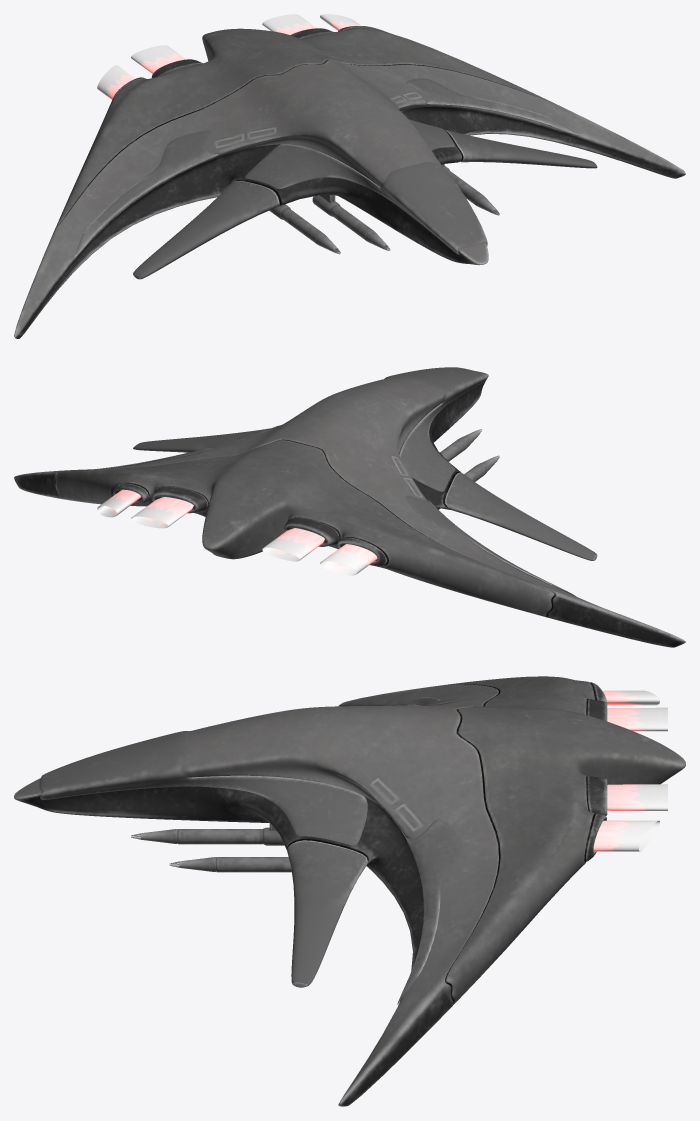
3 views of the same model, one above another, from view 1: azimuth 30°, elevation 25°; view 2: azimuth 150°, elevation 25°; view 3: azimuth 270°, elevation 25° (orthographic). The views are drawn at different scales.
Parts seen in each view (by area): view 1: Ship_Body, Armor, Guns, Thruster Energy; view 2: Ship_Body, Armor, Thruster Energy, Guns; view 3: Ship_Body, Armor, Thruster Energy, Guns.
Boxes of the visible parts, x1=… form: Ship_Body: x1=14, y1=26, x2=685, y2=338; Armor: x1=74, y1=78, x2=577, y2=257; Guns: x1=269, y1=164, x2=499, y2=254; Thruster Energy: x1=97, y1=14, x2=360, y2=99; Ship_Body: x1=14, y1=371, x2=685, y2=647; Armor: x1=94, y1=367, x2=576, y2=596; Thruster Energy: x1=97, y1=489, x2=377, y2=575; Guns: x1=438, y1=429, x2=499, y2=509; Ship_Body: x1=14, y1=676, x2=685, y2=1106; Armor: x1=39, y1=697, x2=464, y2=1004; Thruster Energy: x1=593, y1=690, x2=667, y2=851; Guns: x1=131, y1=823, x2=291, y2=872.
Size of the model in its own units: 24.37 by 5.59 by 17.34.
Materials: 2 (2 with a texture image).
